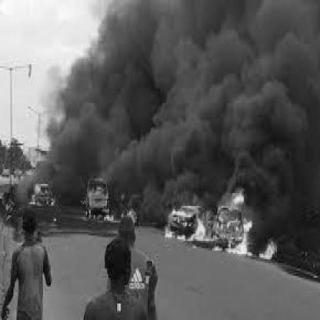Fire: (164, 182, 253, 255), (27, 177, 54, 207), (255, 231, 278, 261)
Smoke: (40, 3, 317, 189)
